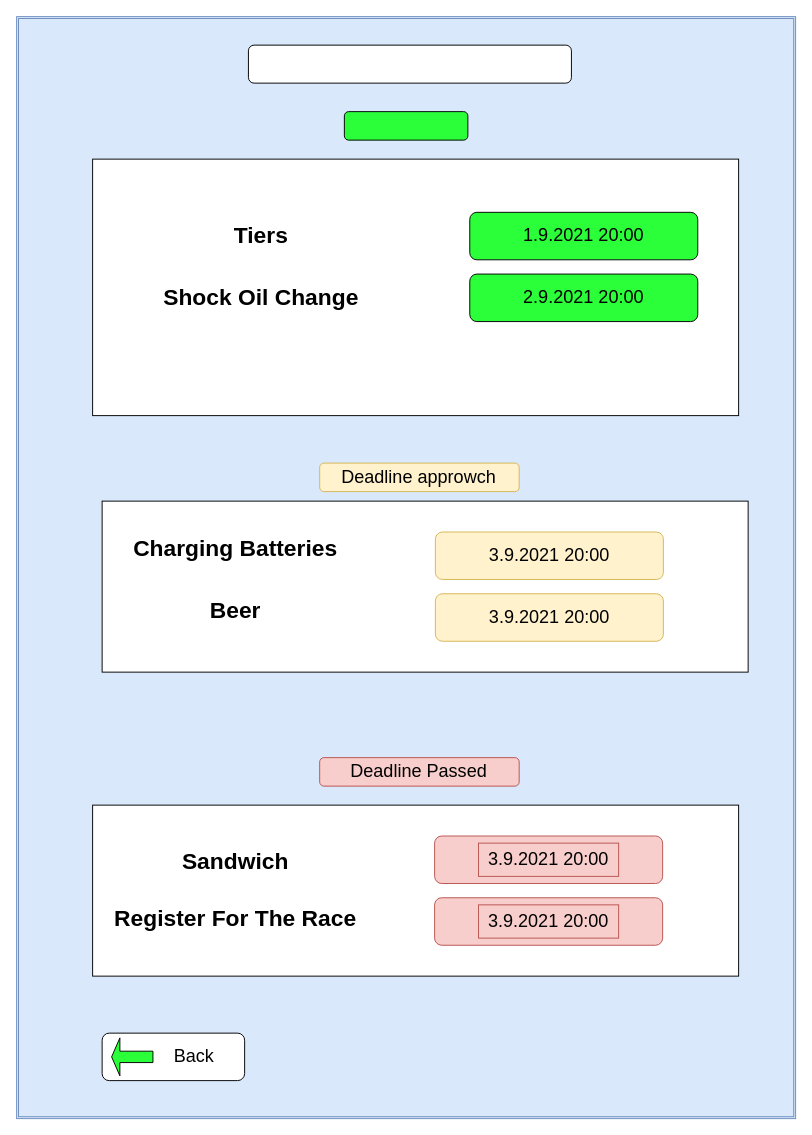
Image size: 812x1135. Some labels were removed from this diagram. Each missing label, with the centre of its shape:
Done: the point at 405,125
Your Checklist for the race taking place at 6.9.21: the point at 409,63
